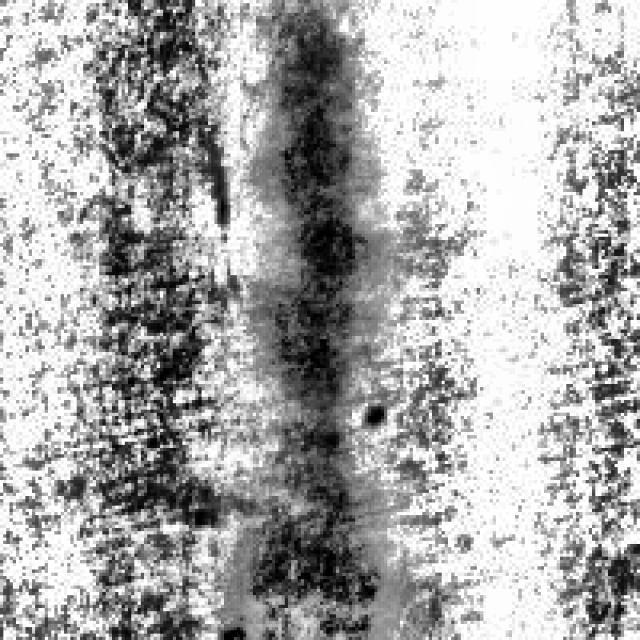Scratches: (246, 3, 372, 403), (218, 451, 390, 637)
